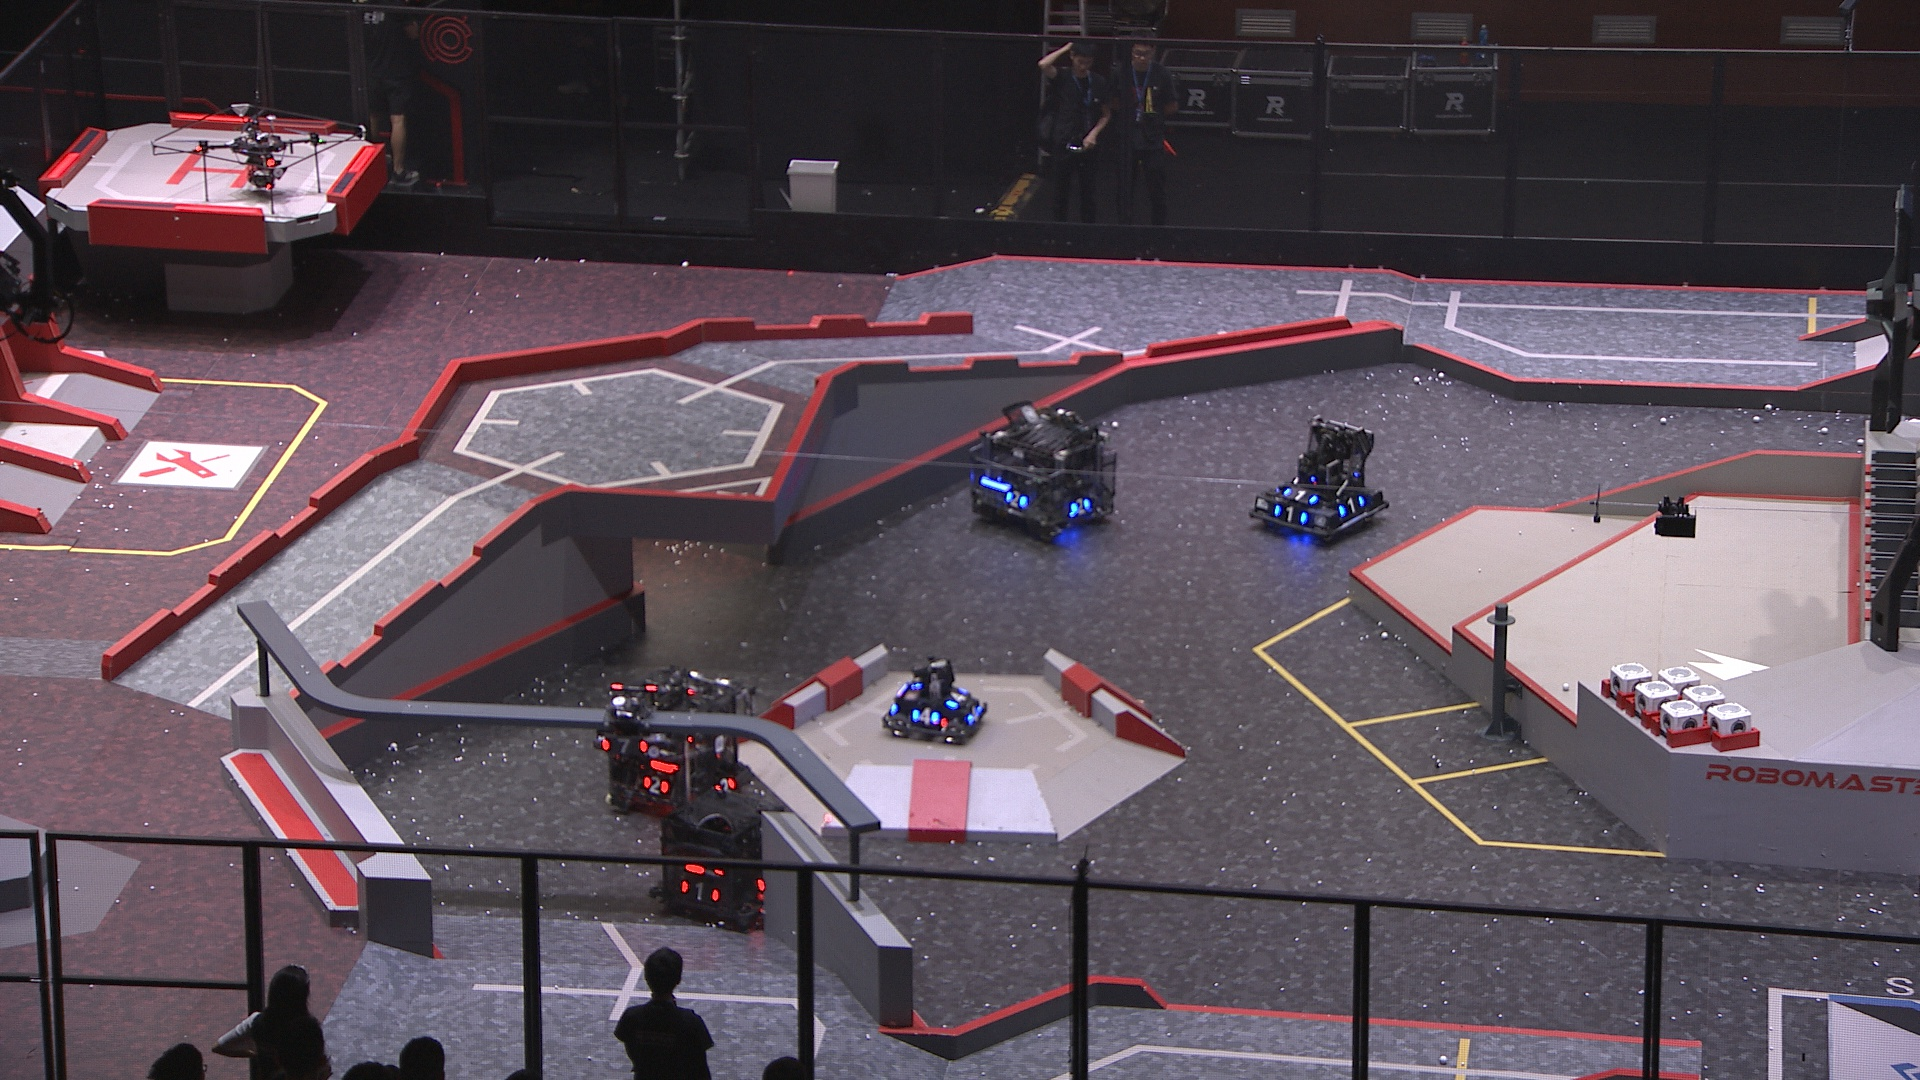armor: (680, 878, 719, 905), (600, 735, 647, 756), (1271, 504, 1309, 527), (1282, 484, 1320, 505), (1337, 491, 1367, 517), (711, 774, 737, 800), (641, 775, 669, 798), (1002, 489, 1030, 512), (1069, 495, 1093, 520), (945, 684, 969, 709), (913, 707, 942, 727), (964, 704, 982, 727)
car: (600, 669, 754, 820), (655, 779, 798, 931), (964, 401, 1120, 538), (1249, 414, 1389, 546), (880, 655, 986, 749)
watcher: (588, 680, 673, 787)
